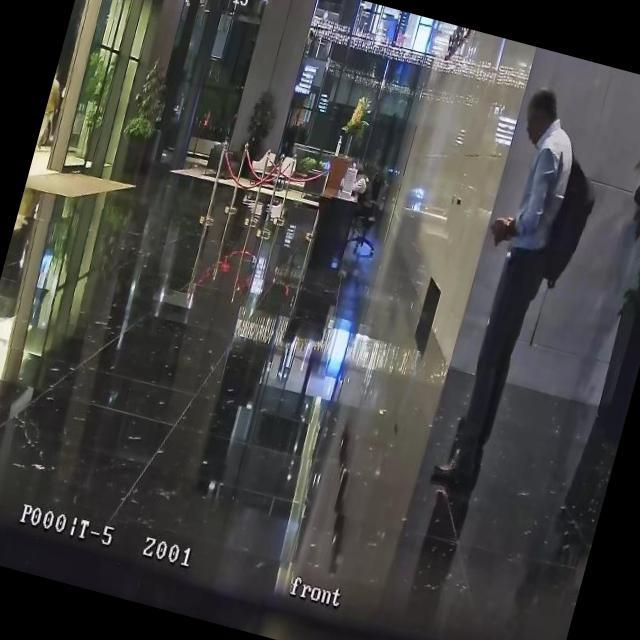person: (424, 82, 592, 494), (36, 62, 70, 150), (344, 161, 381, 214)
